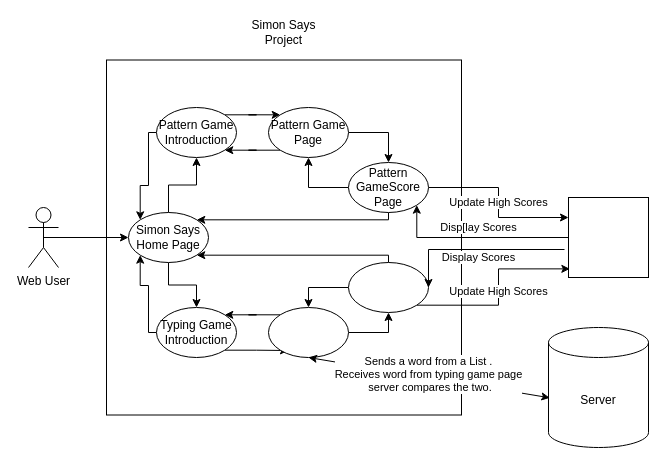
Image size: 666x465. Some labels were removed from this diagram. The shapes that lost their labels are listed below. From the top down, each one's centre as x and y in pixels, then its label:
At point 608,237: "BackEnd Stores the Scores".
At point 388,287: "Typing Game Score Page".
At point 308,332: "Typing Game Page".
